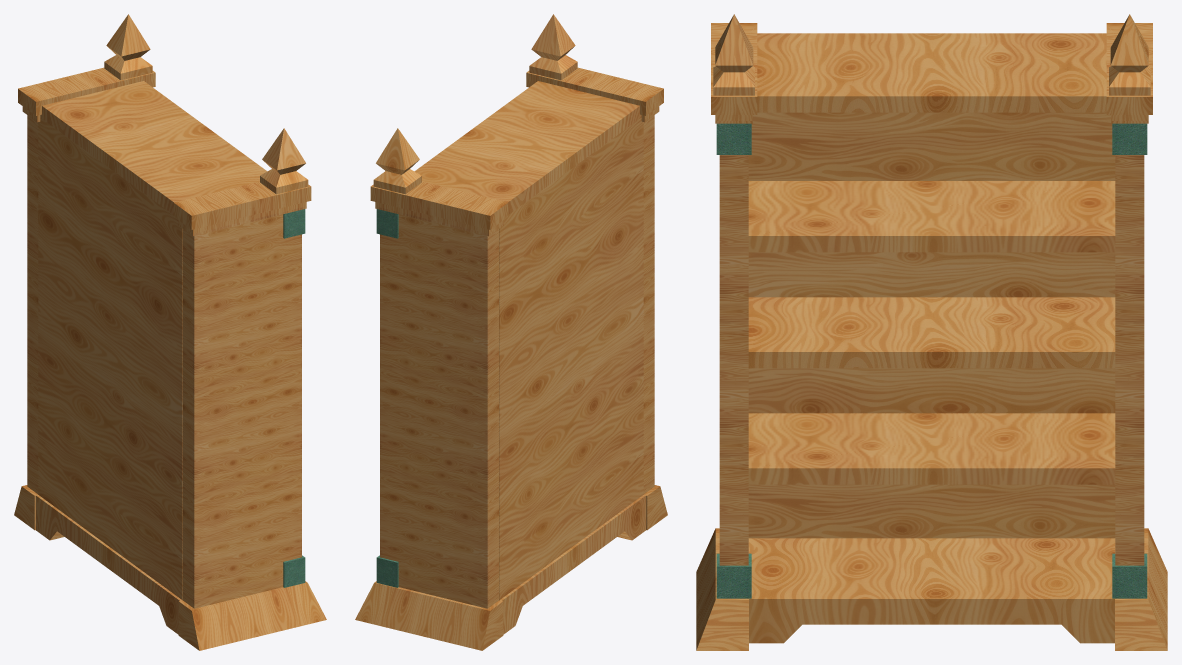
The model's file is Book_Shelf.fbx.
3 renders of one model, left to right at view 1: azimuth 30°, elevation 25°; view 2: azimuth 150°, elevation 25°; view 3: azimuth 270°, elevation 25°, orthographic. The views are drawn at different scales.
Visible parts, largest first — view 1: Book_Shelf; view 2: Book_Shelf; view 3: Book_Shelf.
Boxes of the visible parts, bbox=[...] form: Book_Shelf: bbox=[14, 14, 326, 650]; Book_Shelf: bbox=[355, 14, 667, 650]; Book_Shelf: bbox=[696, 14, 1167, 650].
Bounding box in the file's own units: 60.59 × 219 × 150.
